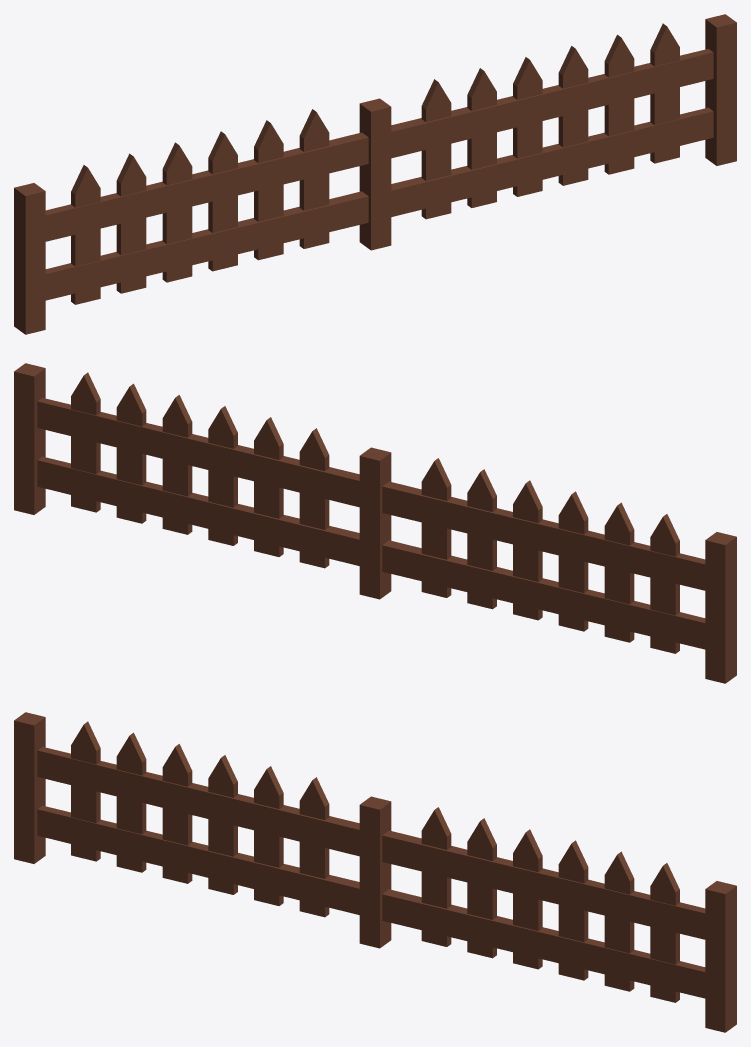
File: Fence2.glb
3 views of the same model, one above another, from view 1: azimuth 30°, elevation 25°; view 2: azimuth 150°, elevation 25°; view 3: azimuth 330°, elevation 25° (orthographic).
Visible parts, largest first — view 1: Fence2_Body; view 2: Fence2_Body; view 3: Fence2_Body.
Part boxes in pixels (x1=…): Fence2_Body: x1=14, y1=14, x2=736, y2=334; Fence2_Body: x1=14, y1=363, x2=736, y2=683; Fence2_Body: x1=14, y1=712, x2=736, y2=1032.
Bounding box in the file's own units: 5.89 × 1.17 × 0.1655.
